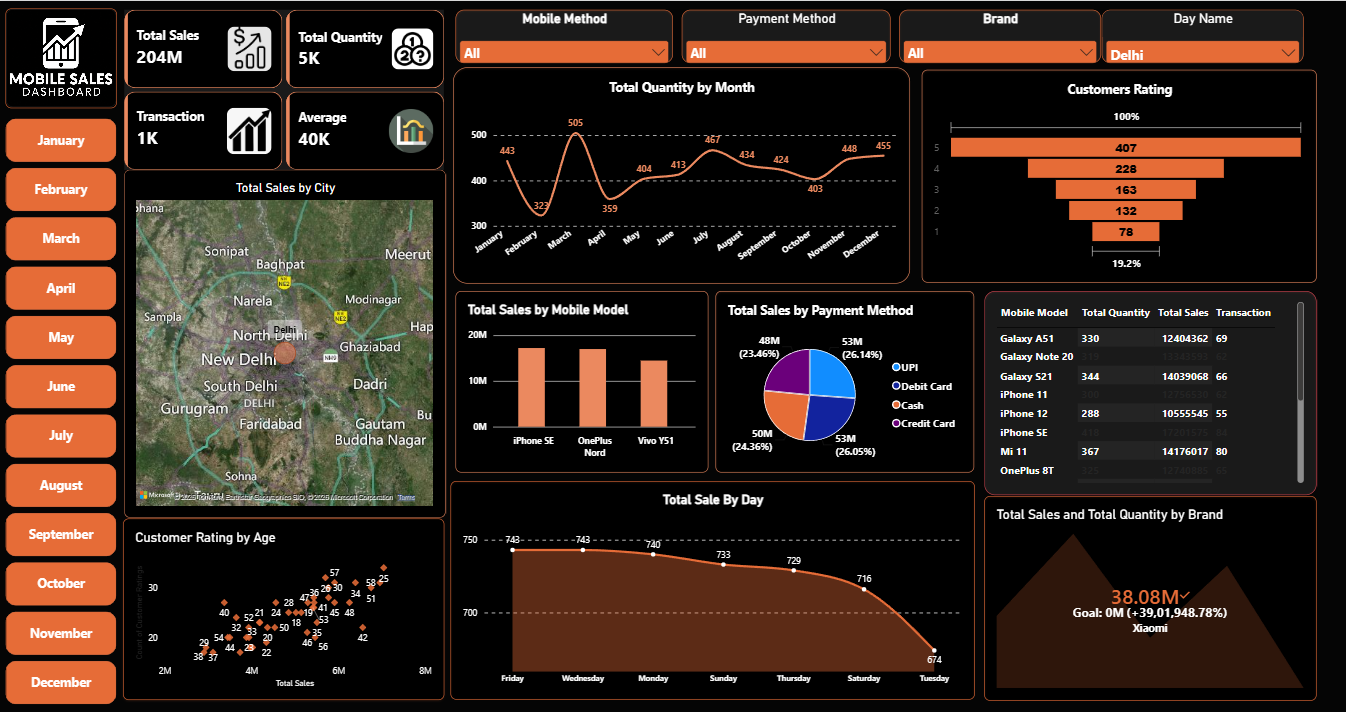

This screenshot's page, from the dashboard's own definition file:
{"tool":"powerbi","page":{"name":"Page 1","canvas":[1920,1080],"ordinal":0},"visuals":[{"type":"image","box":[10.9,10.9,153.8,137.5],"z":0},{"type":"advancedSlicerVisual","fields":{"Values":["Sheet1.Date.Variation.Date Hierarchy.Month"]},"box":[10.9,162.9,153.3,815],"z":1000},{"type":"cardVisual","fields":{"Data":["Sheet1.Total Sales","Sheet1.Total Quantity","Sheet1.Transaction","Sheet1.Average"]},"box":[174.3,11.4,442.9,222.9],"z":2000},{"type":"map","fields":{"Category":["Sheet1.City"],"Size":["Sheet1.Total Sales"]},"box":[173.3,233.3,443.3,480],"z":3000},{"type":"lineChart","fields":{"Category":["Sheet1.Date.Variation.Date Hierarchy.Month","Sheet1.Date.Variation.Date Hierarchy.Day"],"Y":["Sheet1.Total Quantity"]},"box":[628.3,91.7,630,298.6],"z":4000},{"type":"clusteredColumnChart","fields":{"Category":["Sheet1.Mobile Model"],"Y":["Sheet1.Total Sales"]},"box":[631.7,400,348.6,250],"z":5000},{"type":"pieChart","fields":{"Category":["Sheet1.Payment Method"],"Y":["Sheet1.Total Sales"]},"box":[990,400,357.1,250],"z":6000},{"type":"funnel","title":"Customers Rating","fields":{"Category":["Sheet1.Customer Ratings"],"Y":["CountNonNull(Sheet1.Customer Ratings)"]},"box":[1273.3,95,545,293.3],"z":7000},{"type":"areaChart","title":"Total Sale By Day","fields":{"Category":["Sheet1.Day Name"],"Y":["Sheet1.Total Quantity"]},"box":[623.3,661.7,723.3,301.7],"z":8000},{"type":"tableEx","fields":{"Values":["Sheet1.Mobile Model","Sheet1.Total Quantity","Sheet1.Total Sales","Sheet1.Transaction"]},"box":[1360,400,458.3,281.7],"z":9000},{"type":"slicer","title":"Mobile Method","fields":{"Values":["Sheet1.Mobile Model"]},"box":[631.7,11.7,300,73.3],"z":10000},{"type":"slicer","title":"Payment Method","fields":{"Values":["Sheet1.Payment Method"]},"box":[943.3,11.7,288.3,73.3],"z":11000},{"type":"slicer","title":"Brand","fields":{"Values":["Sheet1.Brand"]},"box":[1243.3,11.7,278.3,73.3],"z":12000},{"type":"slicer","title":"Day Name","fields":{"Values":["Sheet1.City"]},"box":[1521.7,11.7,278.3,73.3],"z":13000},{"type":"kpi","fields":{"Goal":["Sheet1.Total Quantity"],"Indicator":["Sheet1.Total Sales"],"TrendLine":["Sheet1.Brand"]},"box":[1360,682,458,282],"z":13001},{"type":"scatterChart","title":"Customer Rating by Age ","fields":{"Category":["Sheet1.Customer Age"],"X":["Sheet1.Total Sales"],"Y":["CountNonNull(Sheet1.Customer Ratings)"]},"box":[173,713,443,250],"z":13002}]}

Visuals, with their boxes on the page's 1920x1080 design canvas (x1, y1, x2, y2). These are canvas units, not pixel positions in the 1346x712 screenshot, which may show the page scaled, cropped or inside an application window:
image: pyautogui.locateOnScreen(11, 11, 165, 148)
advancedSlicerVisual - Sheet1.Date.Variation.Date Hierarchy.Month: pyautogui.locateOnScreen(11, 163, 164, 978)
cardVisual - Sheet1.Total Sales x Sheet1.Total Quantity: pyautogui.locateOnScreen(174, 11, 617, 234)
map - Sheet1.City x Sheet1.Total Sales: pyautogui.locateOnScreen(173, 233, 617, 713)
lineChart - Sheet1.Date.Variation.Date Hierarchy.Month x Sheet1.Date.Variation.Date Hierarchy.Day: pyautogui.locateOnScreen(628, 92, 1258, 390)
clusteredColumnChart - Sheet1.Mobile Model x Sheet1.Total Sales: pyautogui.locateOnScreen(632, 400, 980, 650)
pieChart - Sheet1.Payment Method x Sheet1.Total Sales: pyautogui.locateOnScreen(990, 400, 1347, 650)
"Customers Rating" funnel: pyautogui.locateOnScreen(1273, 95, 1818, 388)
"Total Sale By Day" areaChart: pyautogui.locateOnScreen(623, 662, 1347, 963)
tableEx - Sheet1.Mobile Model x Sheet1.Total Quantity: pyautogui.locateOnScreen(1360, 400, 1818, 682)
"Mobile Method" slicer: pyautogui.locateOnScreen(632, 12, 932, 85)
"Payment Method" slicer: pyautogui.locateOnScreen(943, 12, 1232, 85)
"Brand" slicer: pyautogui.locateOnScreen(1243, 12, 1522, 85)
"Day Name" slicer: pyautogui.locateOnScreen(1522, 12, 1800, 85)
kpi - Sheet1.Total Quantity x Sheet1.Total Sales: pyautogui.locateOnScreen(1360, 682, 1818, 964)
"Customer Rating by Age " scatterChart: pyautogui.locateOnScreen(173, 713, 616, 963)
